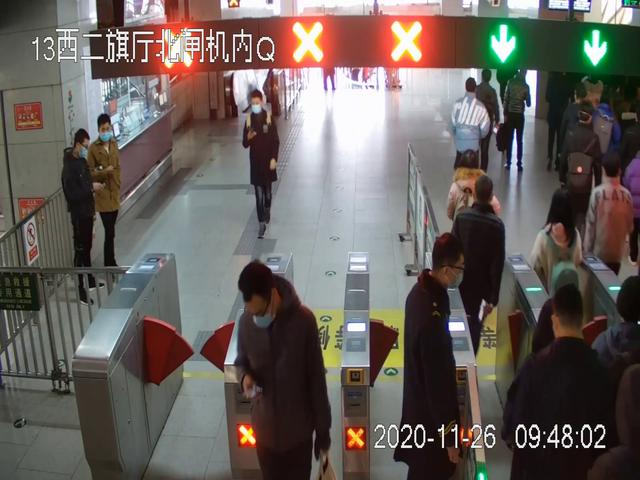person: (237, 258, 332, 480), (501, 287, 609, 480), (393, 235, 465, 480), (449, 176, 506, 395), (531, 187, 583, 343), (447, 151, 502, 295), (585, 155, 633, 309), (62, 129, 102, 305), (243, 88, 281, 240), (450, 76, 490, 218), (90, 114, 124, 277), (559, 108, 599, 217), (503, 69, 531, 176)
